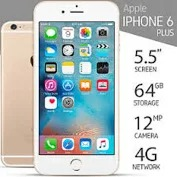iphone: (31, 1, 118, 177)
iphone6: (31, 1, 118, 177)
